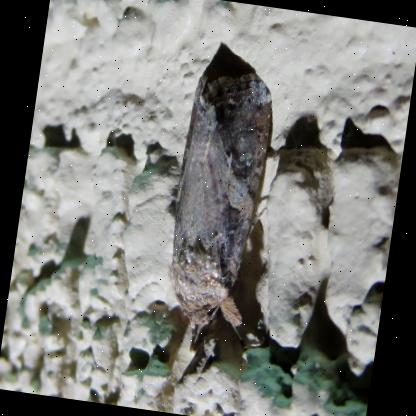Fall Armyworm Moth: (152, 62, 288, 364)
